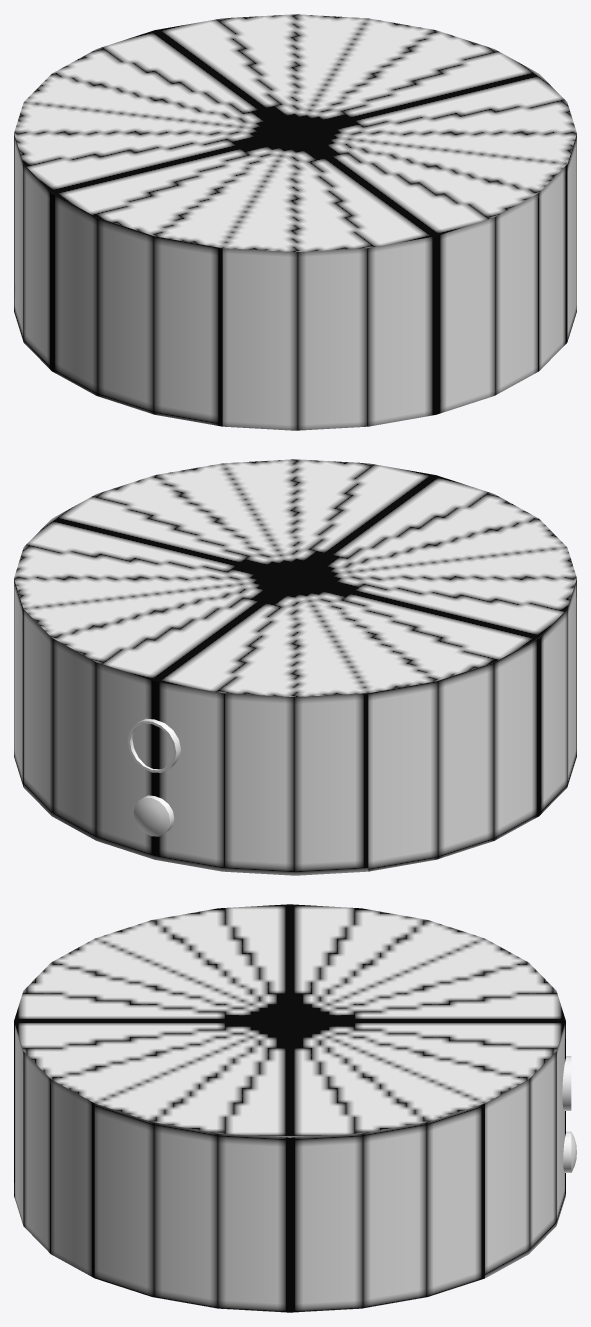
The model's file is acamar_crew_s2_1_interior.obj.
The picture shows the model from 3 angles, top to bottom: view 1: azimuth 30°, elevation 25°; view 2: azimuth 150°, elevation 25°; view 3: azimuth 270°, elevation 25°; orthographic projection. The views are drawn at different scales.
Parts seen in each view (by area): view 1: internal1; view 2: internal1, mask1; view 3: internal1, mask1.
Boxes of the visible parts, bbox=[...] form: internal1: bbox=[14, 14, 576, 430]; internal1: bbox=[14, 459, 576, 875]; mask1: bbox=[127, 718, 180, 836]; internal1: bbox=[14, 904, 565, 1312]; mask1: bbox=[562, 1056, 576, 1172].
Size of the model in its own units: 2.5 by 0.875 by 2.55.
